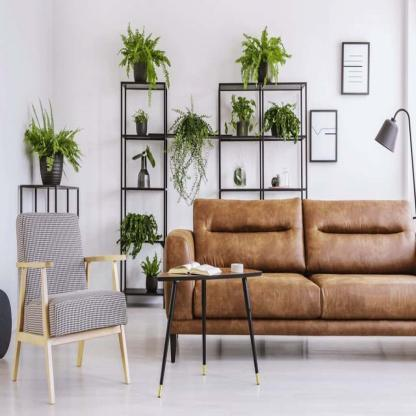chair: (9, 205, 135, 405)
light: (375, 107, 416, 230)
sofa: (164, 202, 416, 366)
table: (157, 253, 267, 393)
